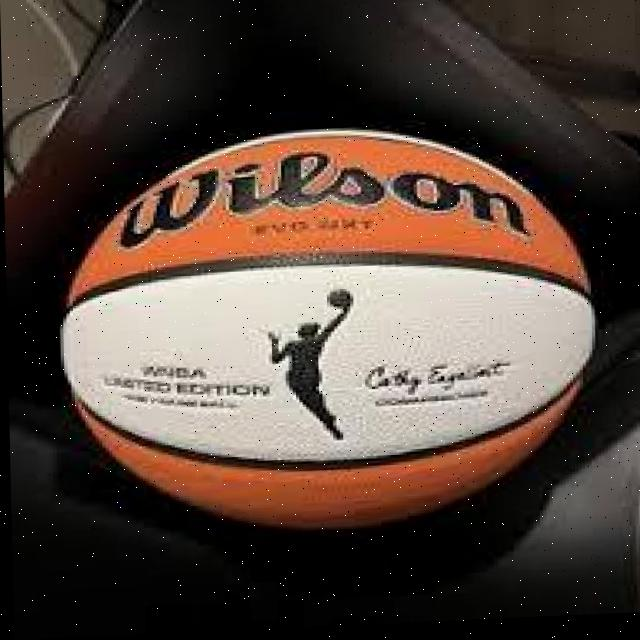Basketball: (57, 121, 599, 543)
